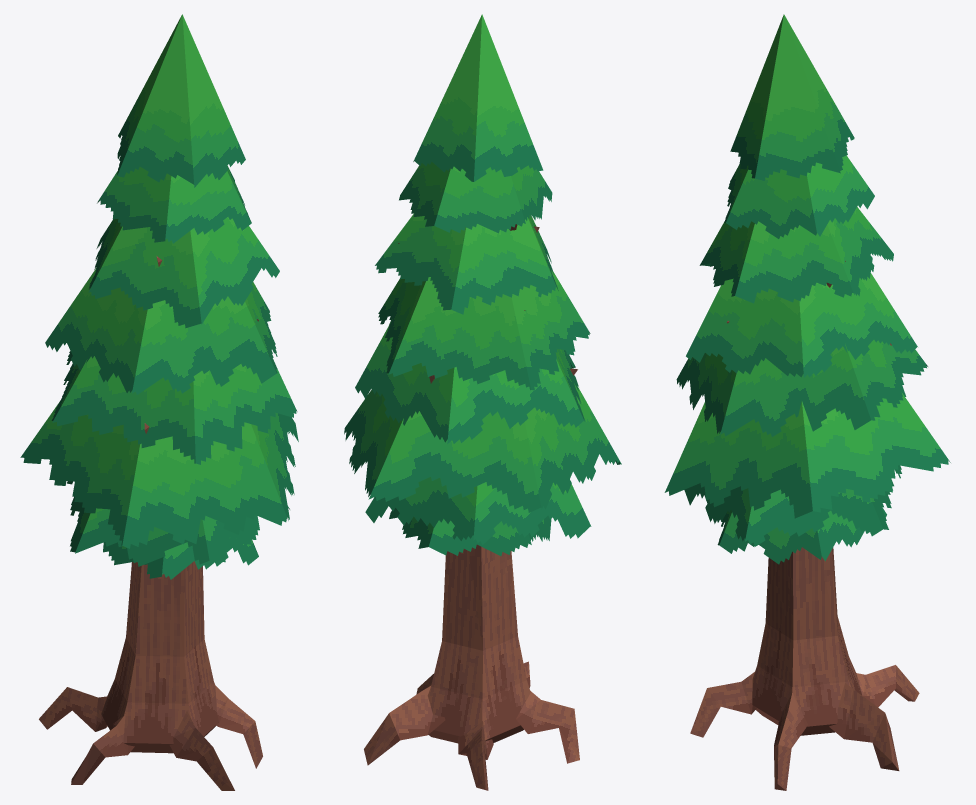
3 renders of one model, left to right at view 1: azimuth 30°, elevation 25°; view 2: azimuth 150°, elevation 25°; view 3: azimuth 270°, elevation 25°, orthographic. The views are drawn at different scales.
Visible parts, largest first — view 1: cylinder (×2); view 2: cylinder (×2); view 3: cylinder (×2).
Part boxes in pixels (x1,y1,x2,y2): cylinder (×2): [20, 14, 298, 790]; cylinder (×2): [344, 14, 621, 790]; cylinder (×2): [664, 14, 950, 790].
Size of the model in its own units: 5.1 by 14.32 by 5.33.
Materials: 2 (2 with a texture image).
